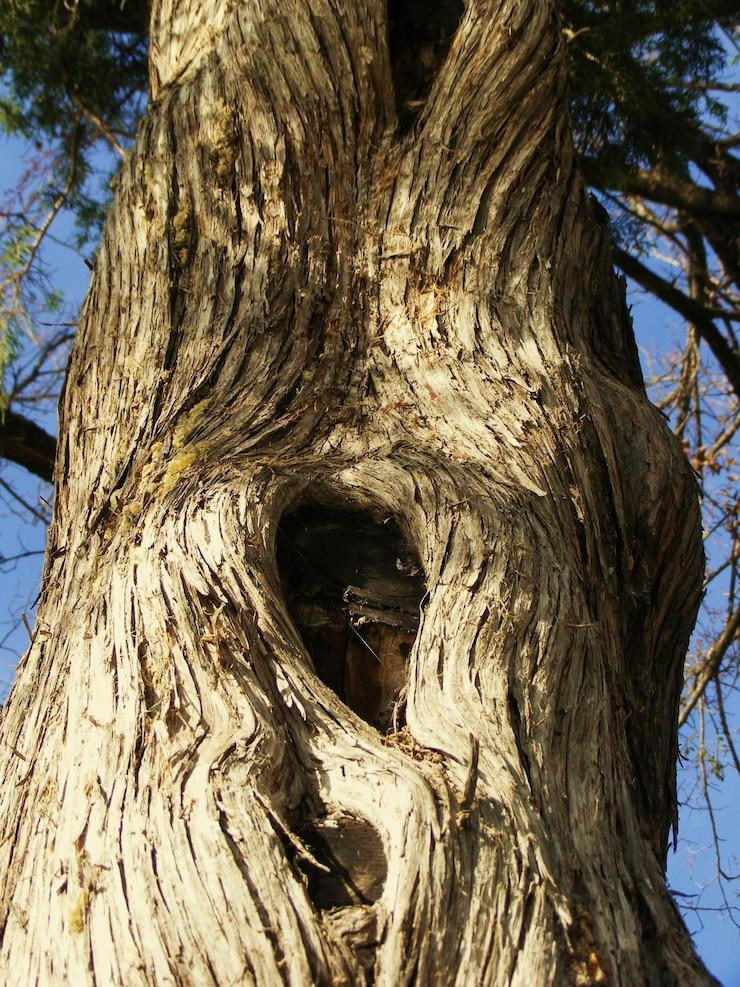hollow: (252, 461, 448, 752)
